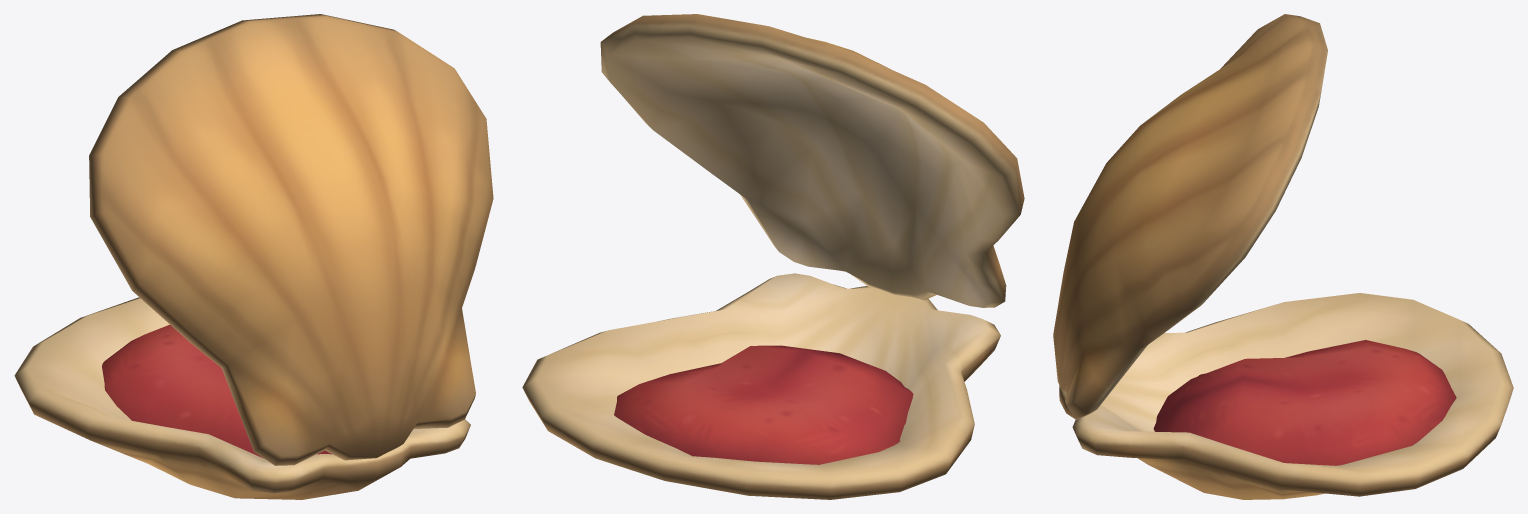
Rendered from Cama.fbx.
3 views of the same model, side by side, from view 1: azimuth 30°, elevation 25°; view 2: azimuth 150°, elevation 25°; view 3: azimuth 270°, elevation 25° (orthographic). The views are drawn at different scales.
Parts seen in each view (by area): view 1: Cama; view 2: Cama; view 3: Cama.
Part boxes in pixels (<box>): Cama: <box>14,14,493,499</box>; Cama: <box>522,14,1024,499</box>; Cama: <box>1053,14,1513,499</box>.
Size of the model in its own units: 98.2 by 105 by 101.
